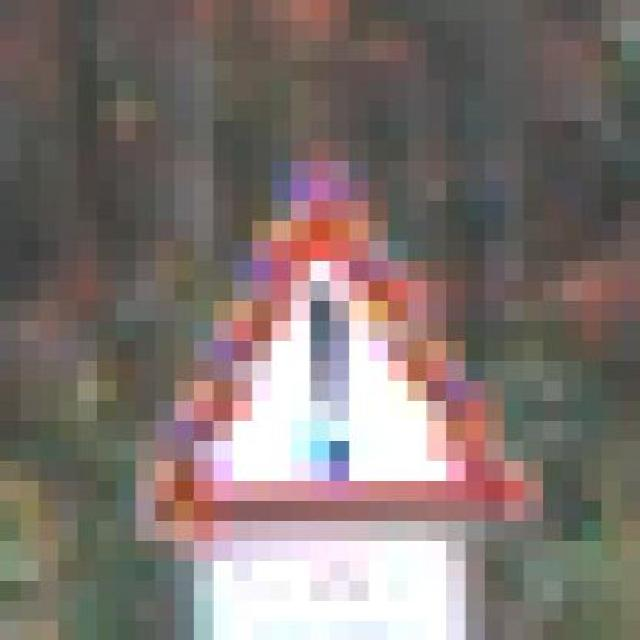Attention Please-: (97, 140, 563, 540)
